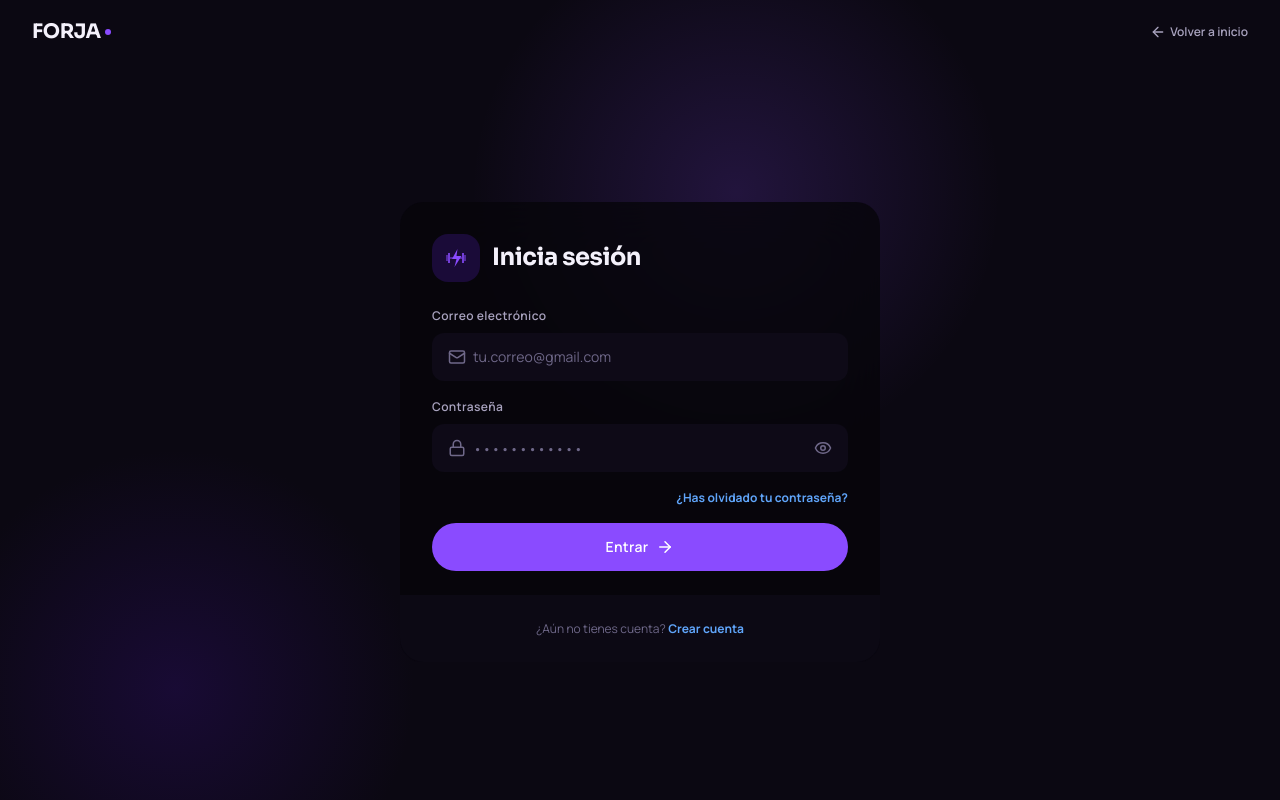
App › mantiene la pantalla de login y muestra el error si las credenciales fallan
In the field labelled "Correo electrónico": (640, 357) x1=432 y1=333 x2=848 y2=381, type "trainer@forjafit.demo"
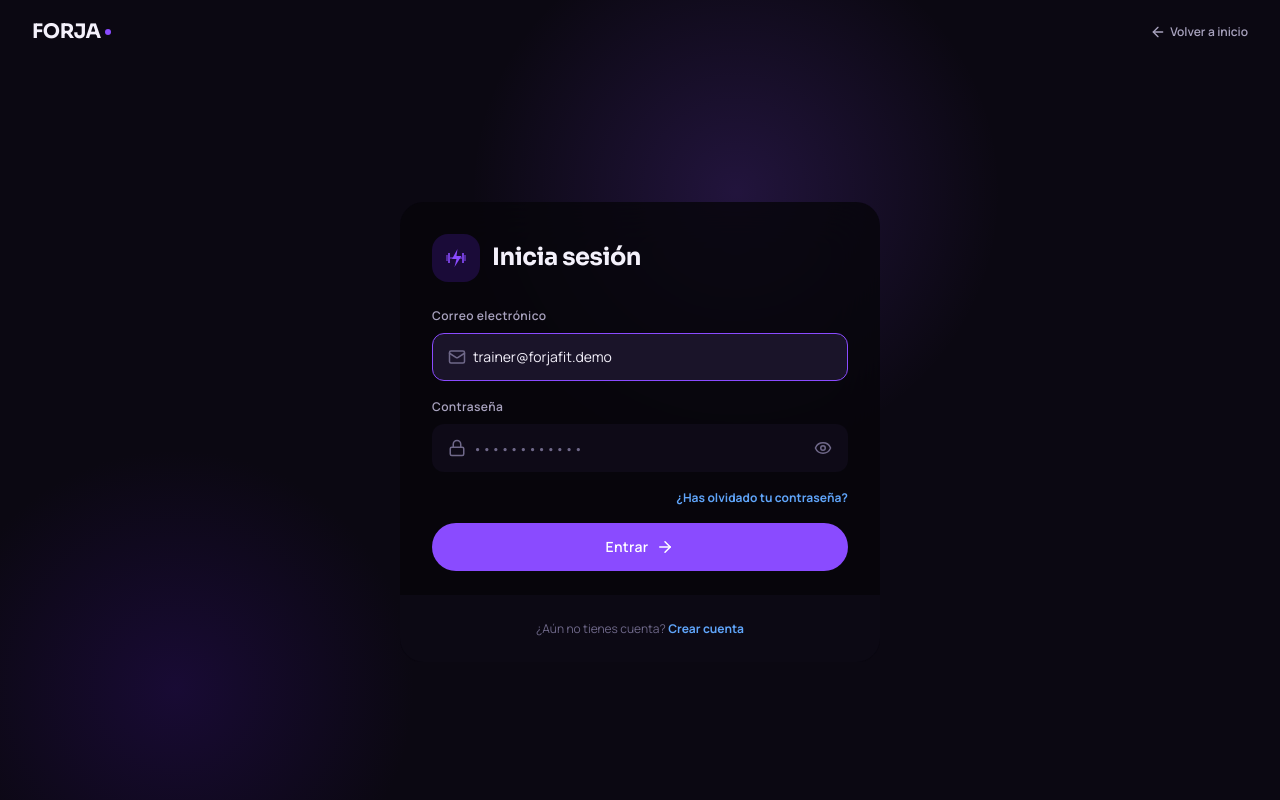
In the password field labelled "Contraseña": (640, 448) x1=432 y1=424 x2=848 y2=472, type "incorrecta"
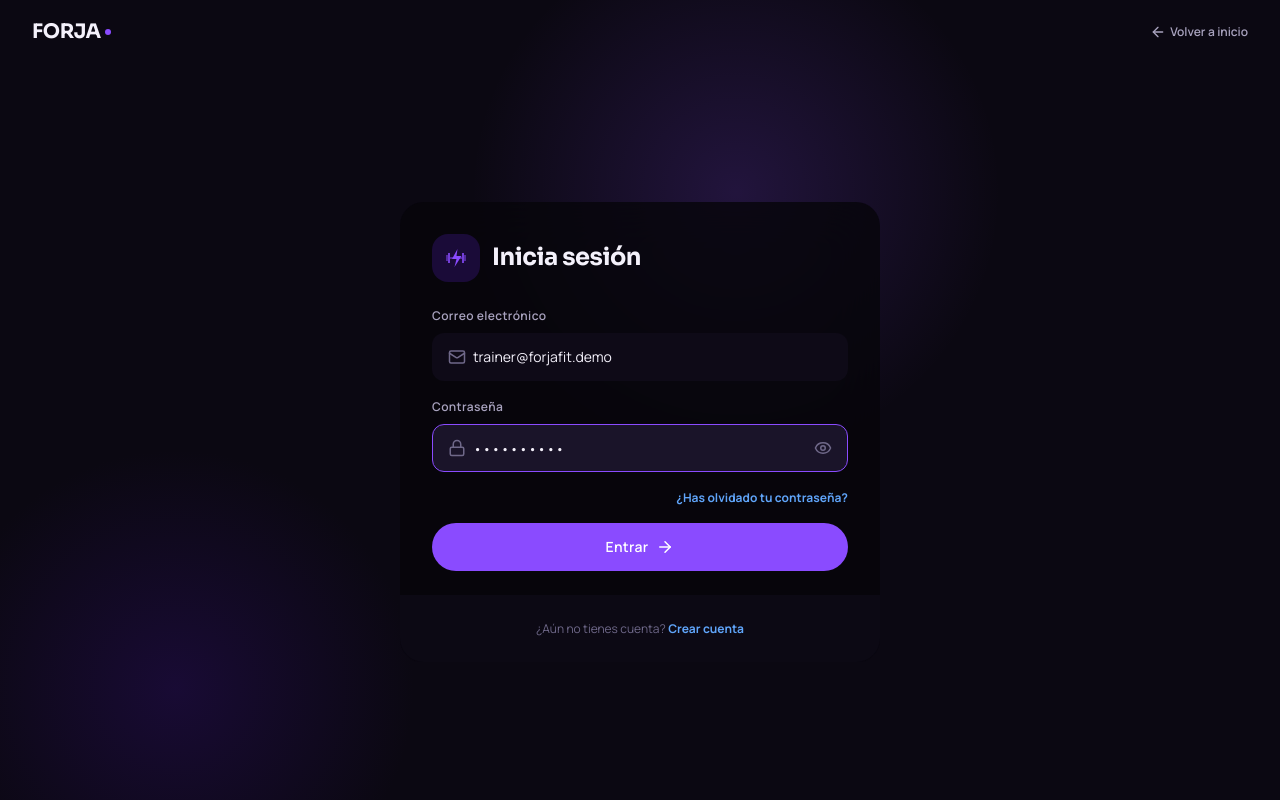
Click the button "Entrar": (640, 547) x1=432 y1=523 x2=848 y2=571
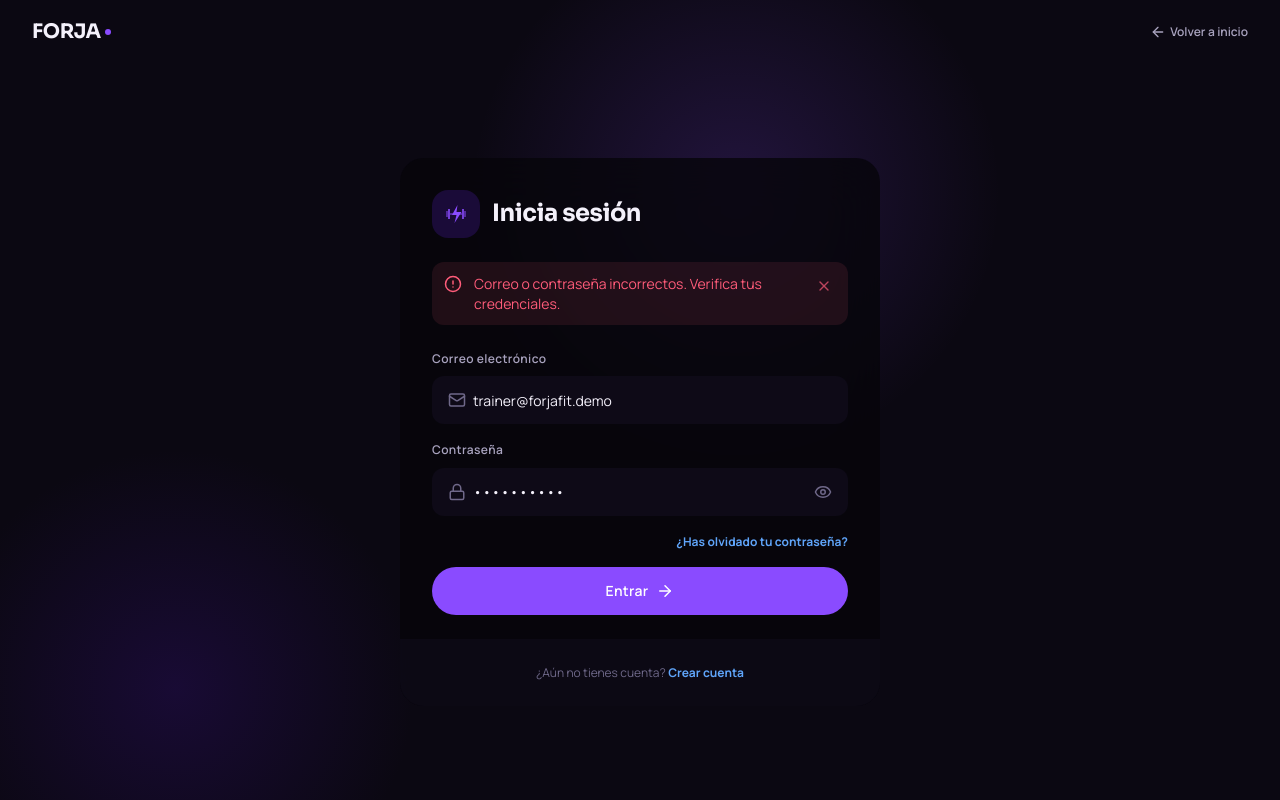
Result: the text "Correo o contraseña incorrectos. Verifica tus credenciales." is shown at x1=474 y1=274 x2=800 y2=313
